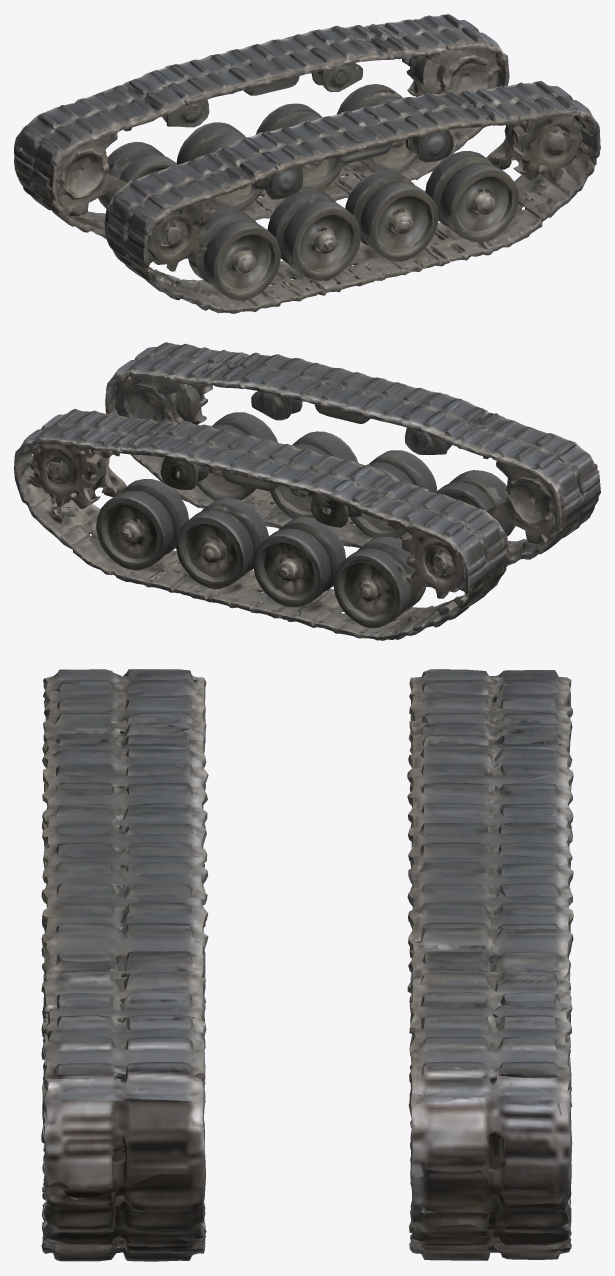
Rendered from heavy_tracks_only_v4.glb.
The picture shows the model from 3 angles, top to bottom: view 1: azimuth 30°, elevation 25°; view 2: azimuth 150°, elevation 25°; view 3: azimuth 270°, elevation 25°; orthographic projection. The views are drawn at different scales.
Parts seen in each view (by area): view 1: geometry_0; view 2: geometry_0; view 3: geometry_0.
Boxes of the visible parts, box(x1,y1,x2,y2) form: geometry_0: box(14, 14, 600, 313); geometry_0: box(14, 342, 600, 640); geometry_0: box(41, 669, 573, 1261).
Size of the model in its own units: 1.2 by 0.3589 by 0.6005.
1 material, 1 textured.
